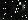person: (18, 4, 23, 13)
